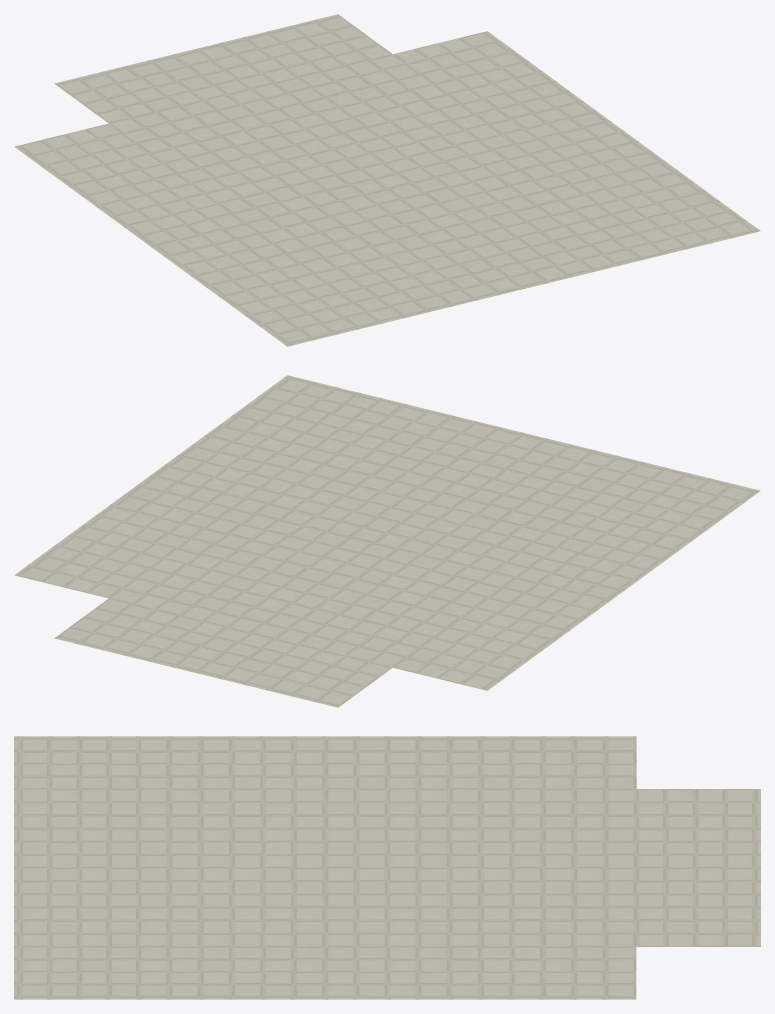
Rendered from Homeworld_Interior_Fd_Room_Floor_01P_Vo.fbx.
3 views of the same model, one above another, from view 1: azimuth 30°, elevation 25°; view 2: azimuth 150°, elevation 25°; view 3: azimuth 270°, elevation 25° (orthographic). The views are drawn at different scales.
Visible parts, largest first — view 1: Homeworld_Interior_Fd_Room_Floor_01P_Vo; view 2: Homeworld_Interior_Fd_Room_Floor_01P_Vo; view 3: Homeworld_Interior_Fd_Room_Floor_01P_Vo.
Boxes of the visible parts, x1=… form: Homeworld_Interior_Fd_Room_Floor_01P_Vo: x1=14, y1=14, x2=760, y2=346; Homeworld_Interior_Fd_Room_Floor_01P_Vo: x1=14, y1=375, x2=760, y2=707; Homeworld_Interior_Fd_Room_Floor_01P_Vo: x1=14, y1=736, x2=760, y2=999.
Bounding box in the file's own units: 25 × 4.85e-06 × 30.
